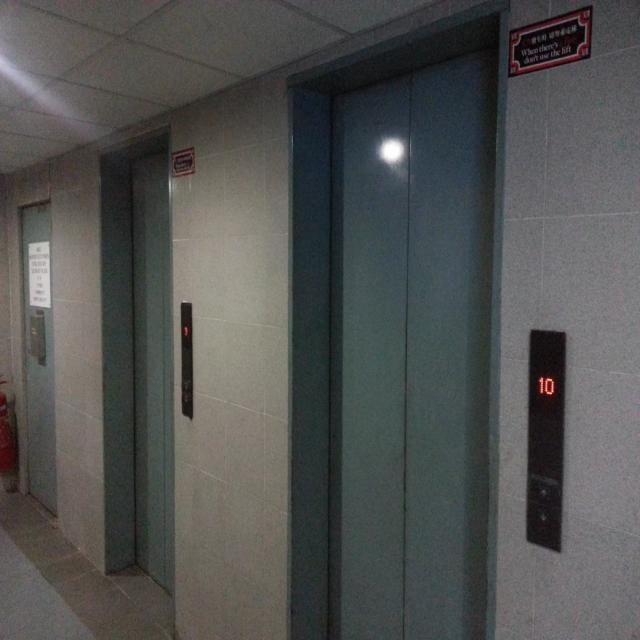elevator: (282, 0, 570, 640), (92, 119, 204, 622)
